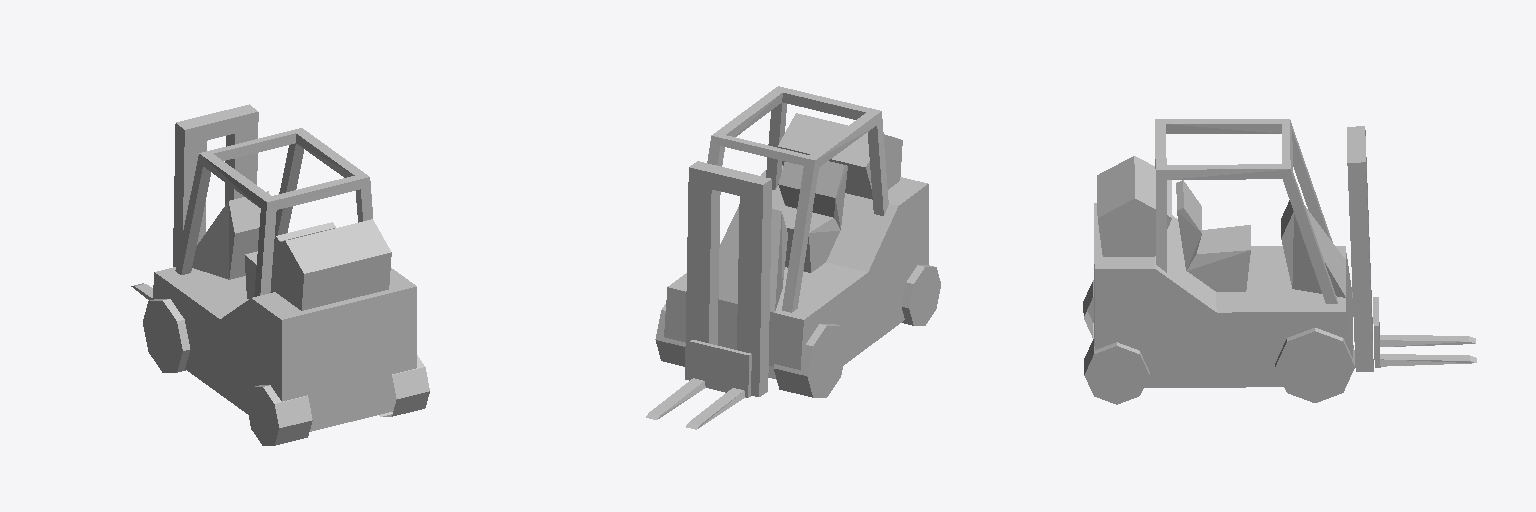
File: forklift.obj
3 renders of one model, left to right at view 1: azimuth 30°, elevation 25°; view 2: azimuth 150°, elevation 25°; view 3: azimuth 270°, elevation 25°, orthographic.
Visible parts, largest first — view 1: forklift.001; view 2: forklift.001; view 3: forklift.001.
Part boxes in pixels (x1,y1,x2,y2): forklift.001: (131,104,429,445); forklift.001: (646,86,940,429); forklift.001: (1083,119,1476,404).
Bounding box in the file's own units: 0.5382 × 0.7524 × 1.2.